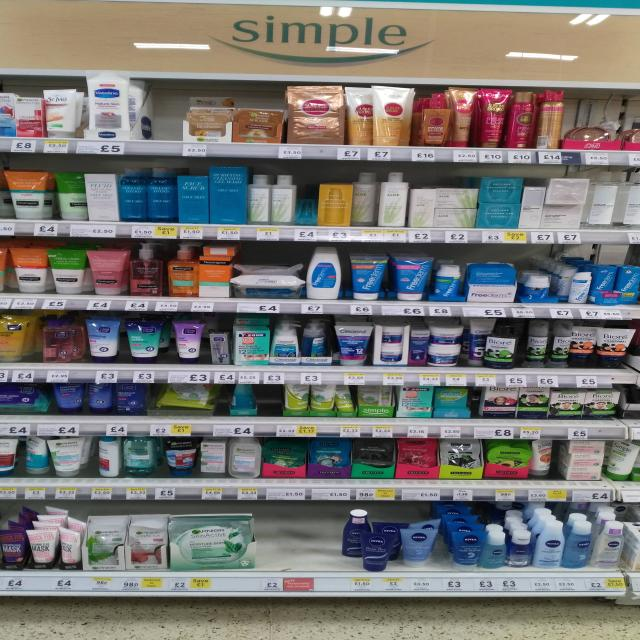unorganised: (340, 512, 442, 570), (1, 504, 86, 571), (346, 84, 416, 145), (541, 176, 591, 229), (25, 439, 83, 477), (41, 89, 78, 138), (54, 171, 87, 220), (538, 87, 564, 149), (483, 321, 517, 368), (507, 90, 532, 152), (353, 163, 376, 229), (606, 439, 640, 481), (549, 320, 572, 371), (571, 326, 598, 368), (299, 320, 328, 357), (530, 439, 553, 479), (55, 382, 83, 414), (87, 382, 111, 416), (335, 384, 356, 416), (201, 245, 238, 258)
